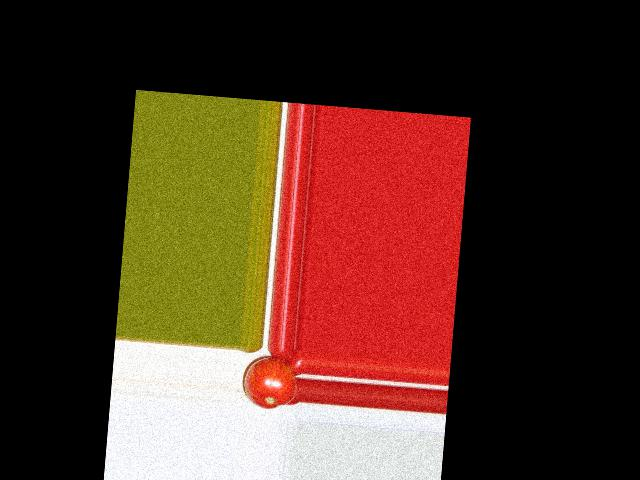tomato: (241, 354, 299, 411)
